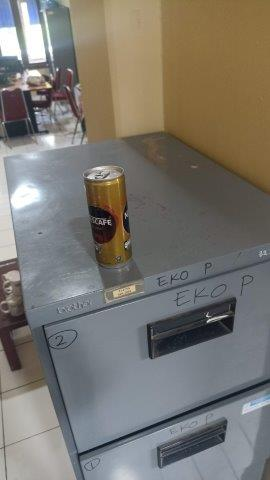kaleng: (84, 165, 133, 269)
